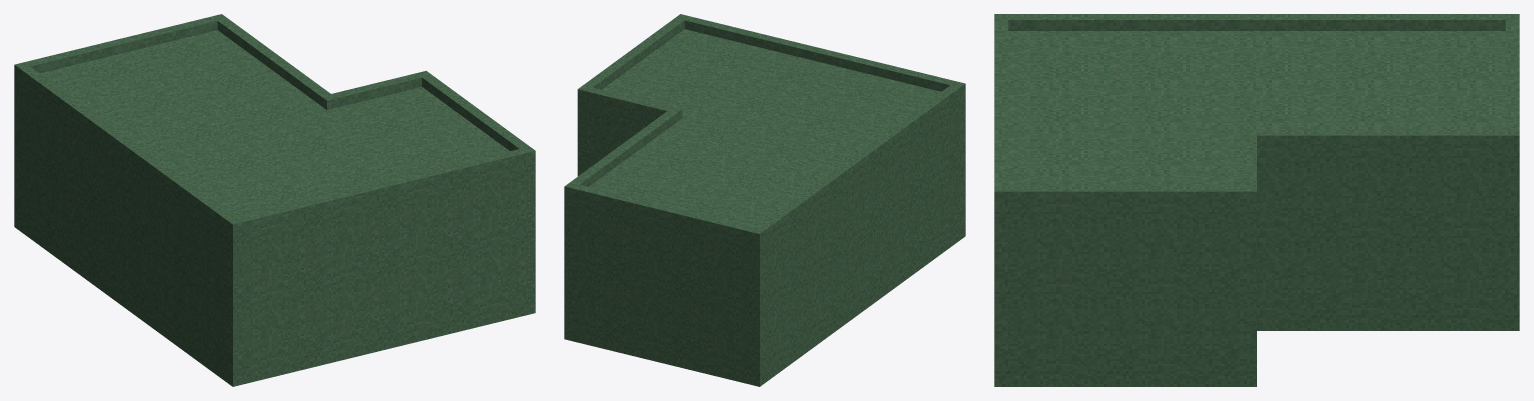
The model's file is CommericalStore.fbx.
The picture shows the model from 3 angles, left to right: view 1: azimuth 30°, elevation 25°; view 2: azimuth 150°, elevation 25°; view 3: azimuth 270°, elevation 25°; orthographic projection. The views are drawn at different scales.
Visible parts, largest first — view 1: CommericalStore; view 2: CommericalStore; view 3: CommericalStore.
Boxes of the visible parts, x1,y1,x2,y2 form: CommericalStore: (14,14,535,386); CommericalStore: (564,14,965,386); CommericalStore: (994,14,1519,386).
Size of the model in its own units: 8 by 10 by 4.1.
